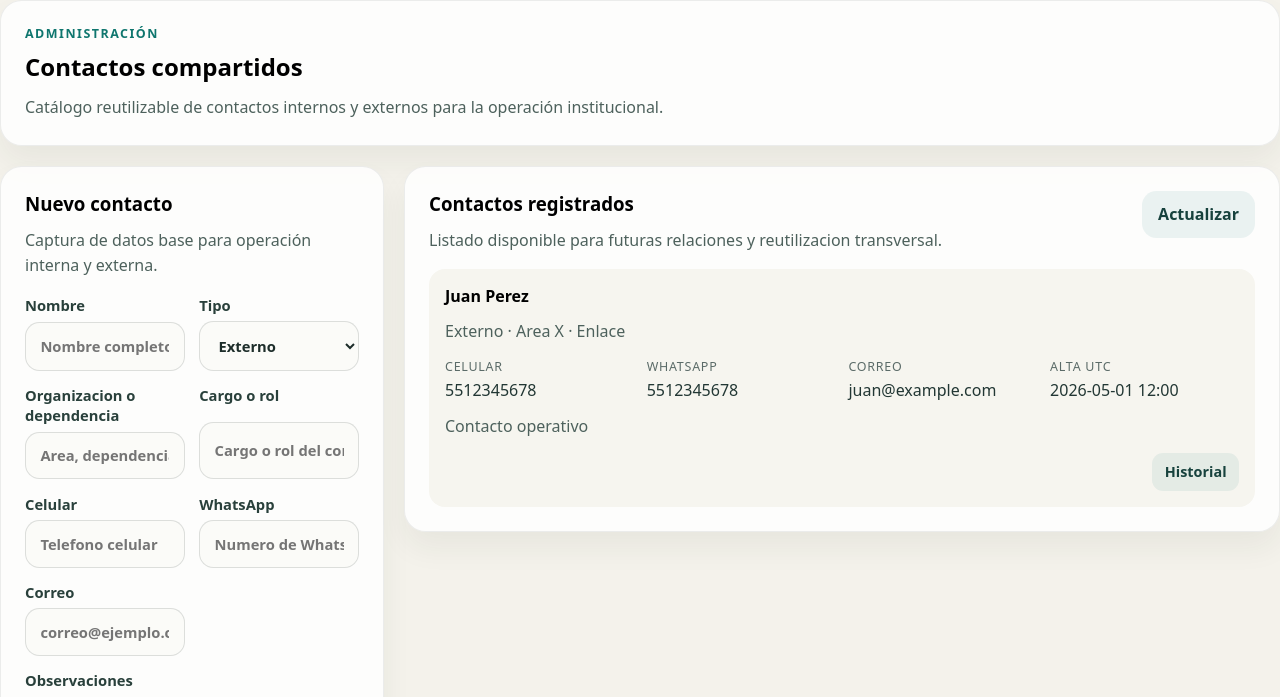
Scenario: ContactsPageComponent › renders a history action for each contact and loads empty history by contact id
Click the button "Historial" at (1196, 472), box [1152,453,1239,491]
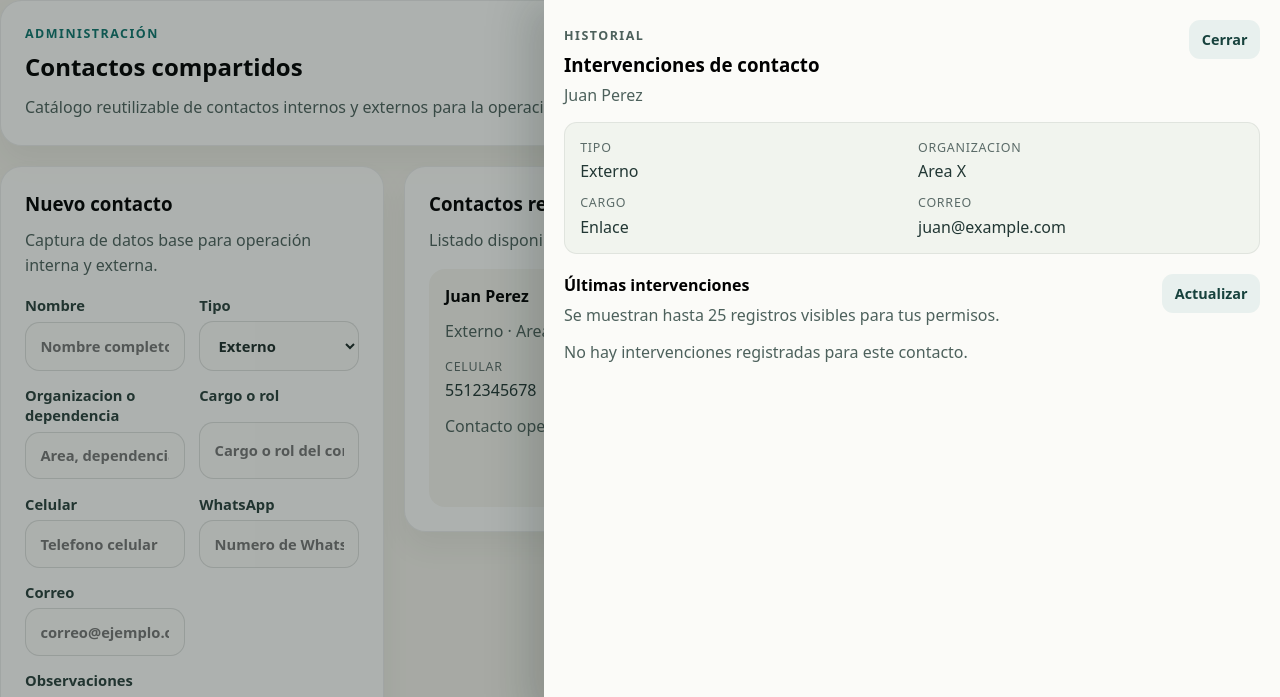
Result: the text "Intervenciones de contacto" is shown at [564,52,820,77]
Result: the text "No hay intervenciones registradas para este contacto." is shown at [564,341,968,363]
